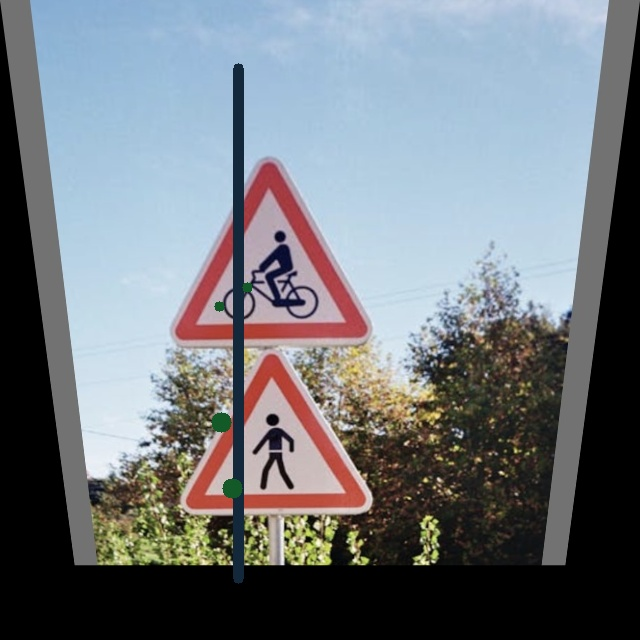Cycle_Crossing: (154, 154, 376, 349)
